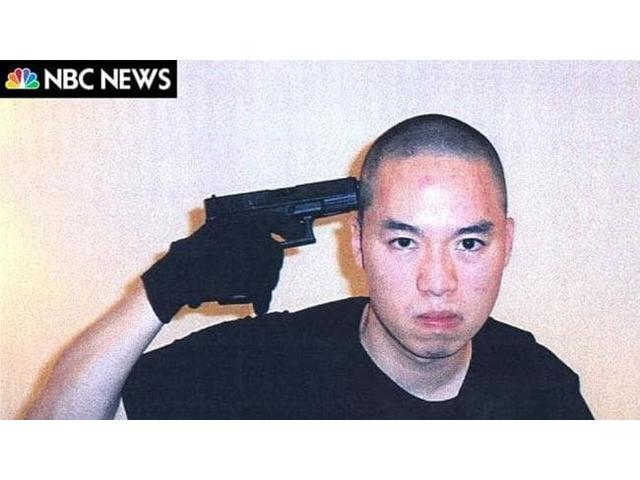pistol: (200, 174, 365, 313)
